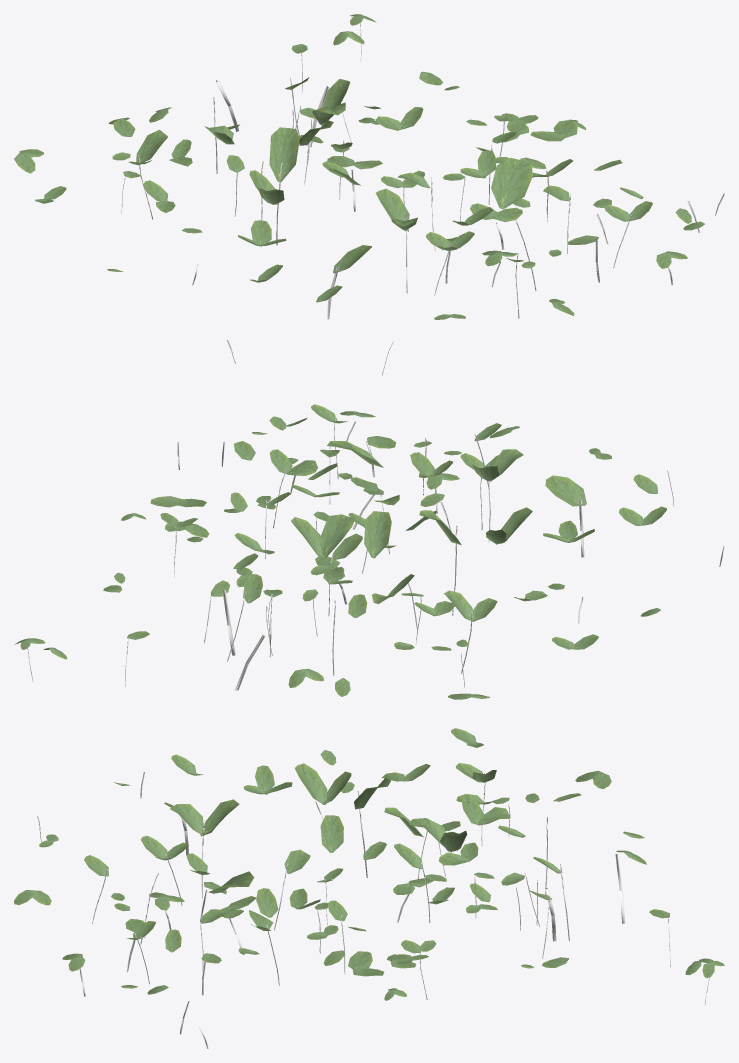
The model's file is clover.glb.
3 views of the same model, one above another, from view 1: azimuth 30°, elevation 25°; view 2: azimuth 150°, elevation 25°; view 3: azimuth 270°, elevation 25° (orthographic).
Parts seen in each view (by area): view 1: clover.glb; view 2: clover.glb; view 3: clover.glb.
Boxes of the visible parts, x1,y1,x2,y2 form: clover.glb: (14, 14, 724, 375); clover.glb: (14, 404, 724, 699); clover.glb: (14, 728, 724, 1048).
Bounding box in the file's own units: 0.3687 × 0.0694 × 0.4129.
Materials: 2 (1 with a texture image).
